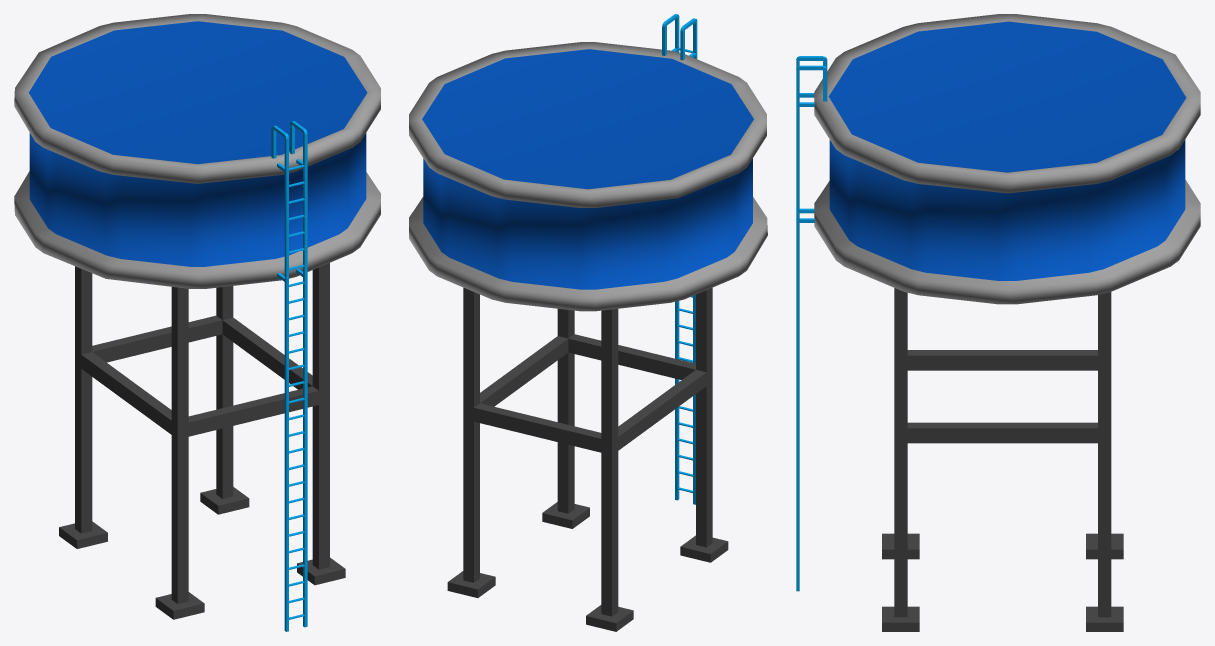
The model's file is Water Tower.fbx.
The picture shows the model from 3 angles, left to right: view 1: azimuth 30°, elevation 25°; view 2: azimuth 150°, elevation 25°; view 3: azimuth 270°, elevation 25°; orthographic projection. The views are drawn at different scales.
Visible parts, largest first — view 1: Water Tower.001; view 2: Water Tower.001; view 3: Water Tower.001.
Part boxes in pixels (x1,y1,x2,y2): Water Tower.001: (14, 14, 380, 631); Water Tower.001: (409, 14, 767, 631); Water Tower.001: (796, 14, 1200, 631).
Bounding box in the file's own units: 12.48 × 18.63 × 13.03.
